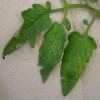Tomato leaf mosaic virus: (1, 3, 51, 60), (59, 29, 98, 98), (40, 24, 65, 84)
